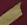scratch: (0, 1, 26, 25)
